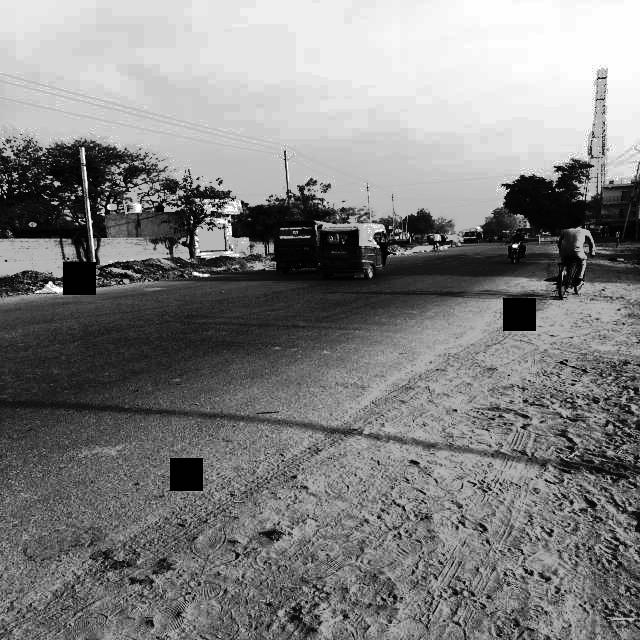Auto-Rickshaw: (320, 220, 386, 278)
